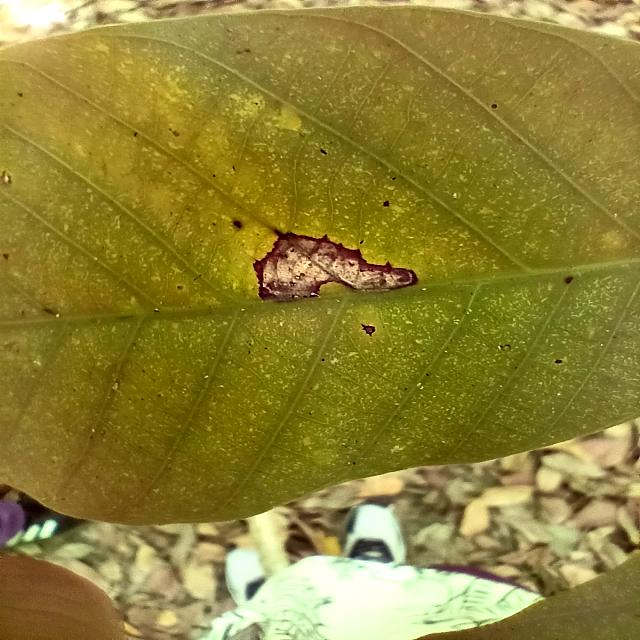Colletotrichum: (361, 323, 374, 337), (233, 220, 242, 230), (383, 200, 388, 208)
Leaf-Blight: (264, 237, 412, 295)
